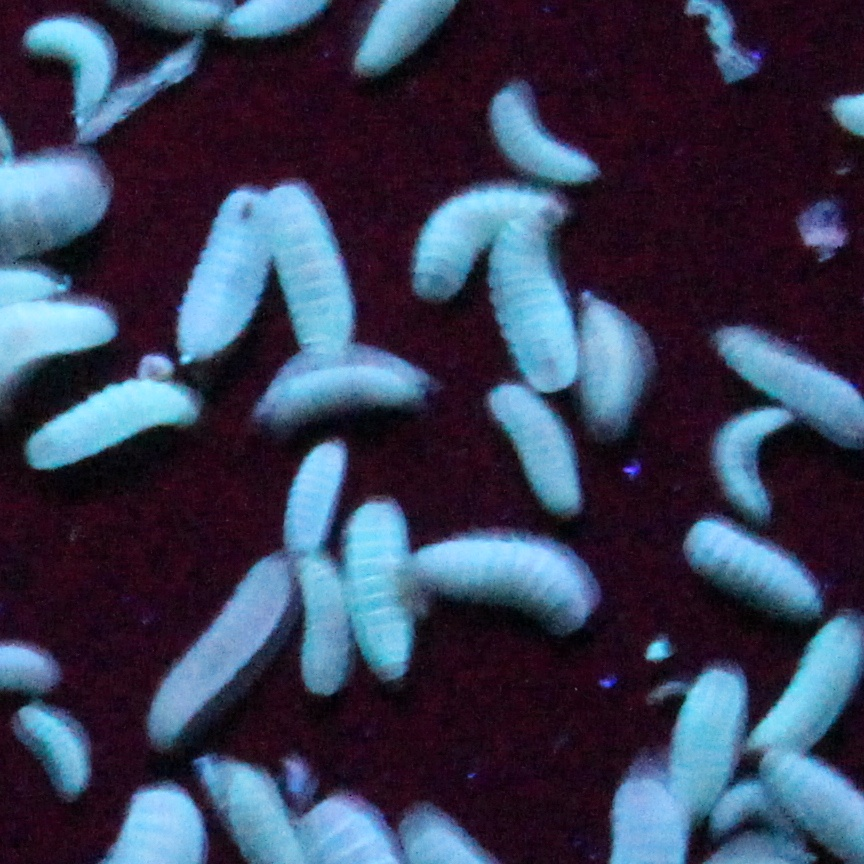larve: (138, 561, 288, 741), (171, 189, 272, 361), (409, 541, 598, 626), (682, 519, 819, 615), (33, 387, 186, 470), (276, 182, 350, 349), (262, 355, 423, 431), (487, 387, 581, 515), (350, 499, 413, 680), (574, 299, 646, 446), (494, 92, 597, 184), (712, 411, 801, 515), (12, 701, 98, 803), (281, 441, 348, 561), (511, 222, 559, 384), (31, 18, 112, 113), (416, 187, 489, 291), (676, 670, 723, 807), (300, 557, 344, 692), (710, 785, 778, 836)
